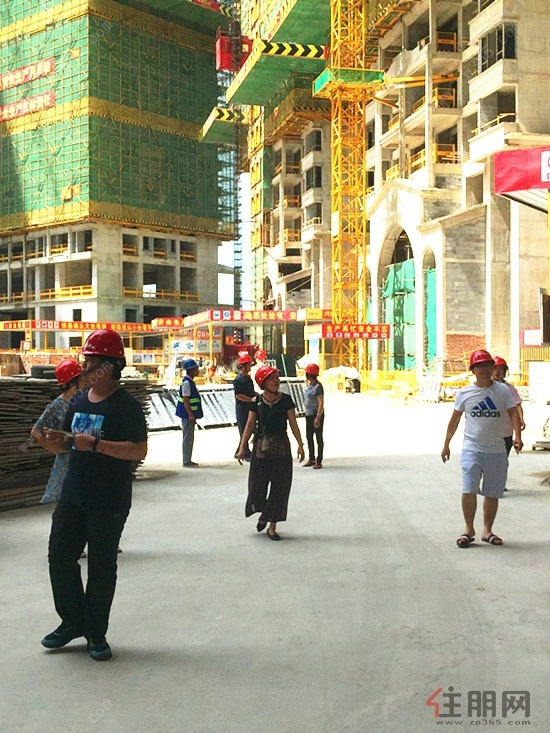blue: (182, 357, 201, 377)
red: (75, 327, 129, 390), (53, 357, 83, 395), (469, 348, 495, 381), (254, 364, 282, 392), (490, 354, 509, 380), (236, 353, 254, 373), (303, 362, 320, 381)
